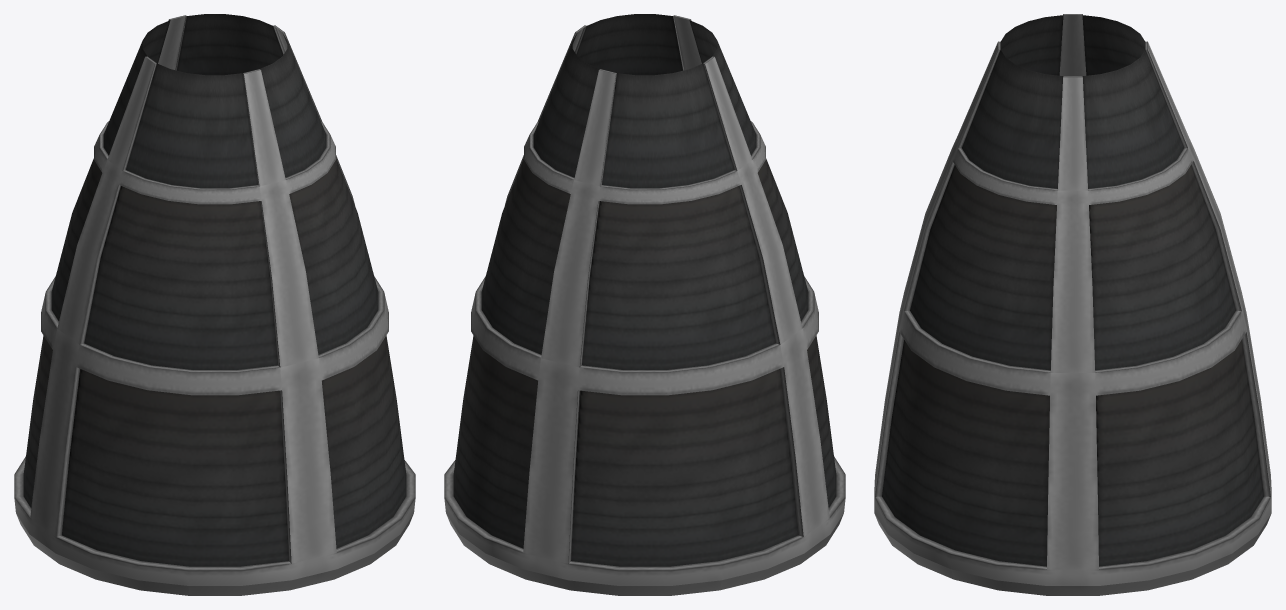
File: lr89Nozzle.dae
The picture shows the model from 3 angles, left to right: view 1: azimuth 30°, elevation 25°; view 2: azimuth 150°, elevation 25°; view 3: azimuth 270°, elevation 25°; orthographic projection.
Parts seen in each view (by area): view 1: LR89Nozzle; view 2: LR89Nozzle; view 3: LR89Nozzle.
Part boxes in pixels (bbox=[...]): LR89Nozzle: bbox=[14, 14, 415, 595]; LR89Nozzle: bbox=[444, 14, 845, 595]; LR89Nozzle: bbox=[874, 14, 1271, 595].
Bounding box in the file's own units: 0.7169 × 0.9323 × 0.7169.
